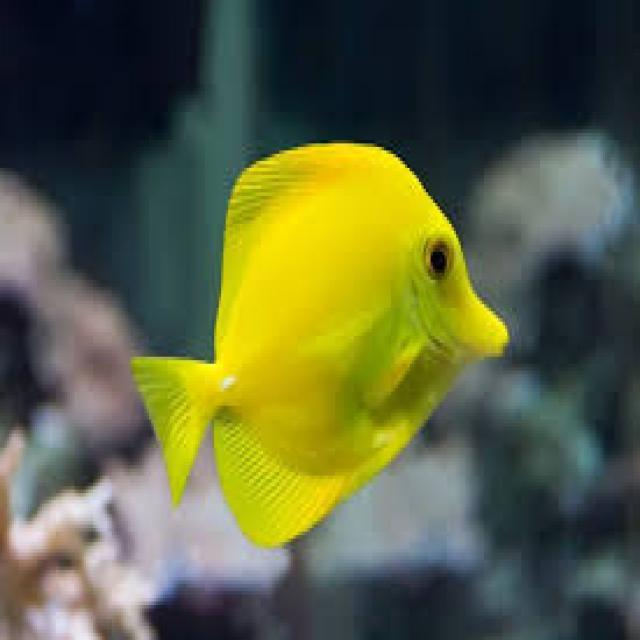YellowTang: (124, 105, 523, 547)
